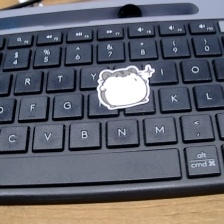mouse: (97, 60, 156, 113)
